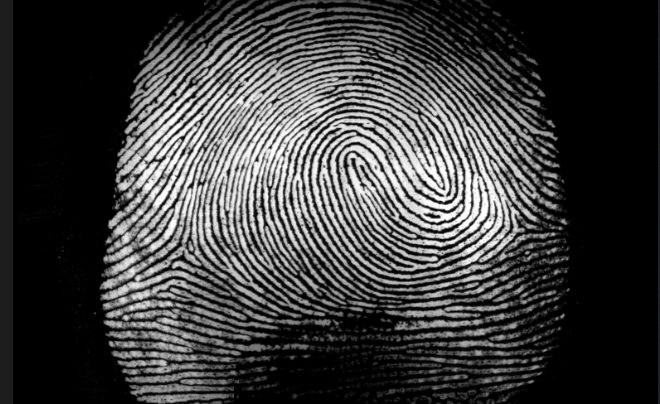nucelo: (339, 143, 391, 211)
verticilo: (501, 204, 542, 242), (162, 235, 202, 270)
